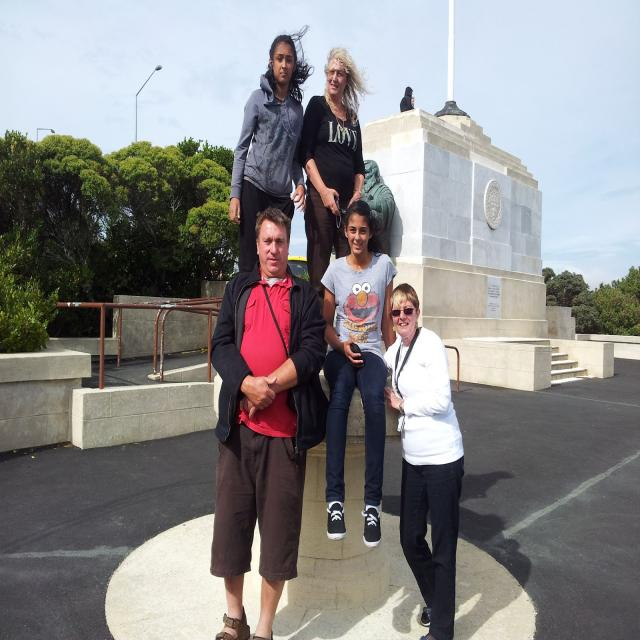body: (208, 204, 330, 639), (270, 464, 531, 640), (381, 281, 466, 640), (318, 198, 400, 549), (228, 24, 312, 280), (296, 45, 368, 318), (360, 158, 397, 256), (400, 86, 415, 113), (411, 96, 415, 110)
